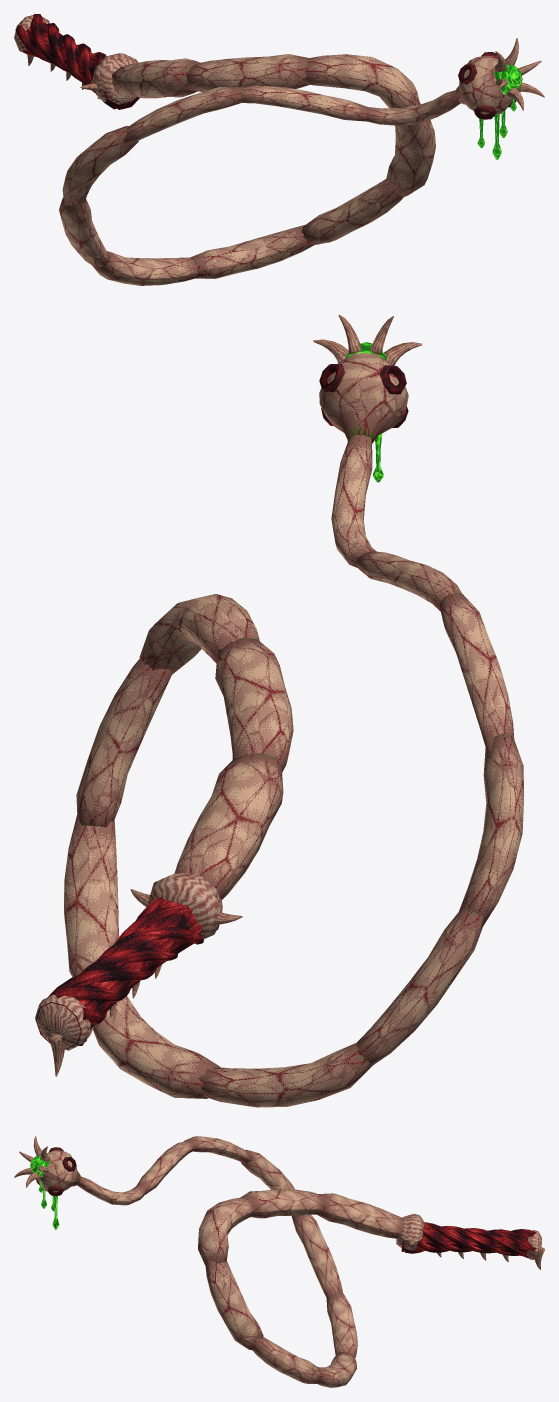
The model's file is Tenia_Whip.glb.
3 views of the same model, one above another, from view 1: azimuth 30°, elevation 25°; view 2: azimuth 150°, elevation 25°; view 3: azimuth 270°, elevation 25° (orthographic). The views are drawn at different scales.
Visible parts, largest first — view 1: Whip_Seg_03, Whip_Seg_02, Whip_Seg_06, Whip_Hilt, Whip_Seg_05, Whip_Seg_01, Whip_Seg_04, Whip_Seg_10, Whip_Seg_09, Whip_Seg_11, Whip_Seg_07, Whip_Seg_08 (+6 smaller); view 2: Whip_Seg_01, Whip_Hilt, Whip_Seg_04, Whip_Seg_02, Whip_Seg_05, Whip_Seg_09, Whip_Seg_08, Whip_Seg_07, Whip_Seg_06, Whip_Seg_03, Whip_Hilt_Cartilage, Whip_Seg_10 (+5 smaller); view 3: Whip_Hilt, Whip_Seg_04, Whip_Seg_01, Whip_Seg_03, Whip_Seg_08, Whip_Seg_02, Whip_Seg_05, Whip_Seg_07, Whip_Hilt_Cartilage, Whip_Seg_11, Whip_Scolex, Whip_Seg_09 (+6 smaller).
Boxes of the visible parts, left/top/right/bottom form: Whip_Seg_03: left=305, top=54, right=419, bottom=108; Whip_Seg_02: left=186, top=54, right=308, bottom=91; Whip_Seg_06: left=191, top=225, right=313, bottom=278; Whip_Hilt: left=15, top=14, right=139, bottom=109; Whip_Seg_05: left=301, top=179, right=403, bottom=245; Whip_Seg_01: left=112, top=58, right=200, bottom=98; Whip_Seg_04: left=386, top=102, right=435, bottom=197; Whip_Seg_10: left=123, top=87, right=242, bottom=145; Whip_Seg_09: left=62, top=126, right=138, bottom=205; Whip_Seg_11: left=239, top=85, right=367, bottom=121; Whip_Seg_07: left=92, top=251, right=199, bottom=285; Whip_Seg_08: left=59, top=197, right=111, bottom=267; Whip_Seg_01: left=174, top=753, right=283, bottom=899; Whip_Hilt: left=36, top=897, right=219, bottom=1049; Whip_Seg_04: left=76, top=658, right=172, bottom=827; Whip_Seg_02: left=215, top=637, right=293, bottom=772; Whip_Seg_05: left=64, top=813, right=119, bottom=977; Whip_Seg_09: left=459, top=734, right=523, bottom=928; Whip_Seg_08: left=356, top=907, right=483, bottom=1067; Whip_Seg_07: left=198, top=1043, right=373, bottom=1107; Whip_Seg_06: left=92, top=996, right=220, bottom=1098; Whip_Seg_03: left=139, top=594, right=259, bottom=674; Whip_Hilt_Cartilage: left=35, top=872, right=242, bottom=1076; Whip_Seg_10: left=439, top=593, right=514, bottom=751; Whip_Hilt: left=401, top=1222, right=539, bottom=1258; Whip_Seg_04: left=205, top=1258, right=263, bottom=1350; Whip_Seg_01: left=317, top=1193, right=403, bottom=1238; Whip_Seg_03: left=198, top=1197, right=255, bottom=1266; Whip_Seg_08: left=291, top=1214, right=342, bottom=1297; Whip_Seg_02: left=240, top=1189, right=324, bottom=1218; Whip_Seg_05: left=251, top=1337, right=323, bottom=1383; Whip_Seg_07: left=326, top=1291, right=357, bottom=1357; Whip_Hilt_Cartilage: left=396, top=1213, right=544, bottom=1269; Whip_Seg_11: left=136, top=1141, right=194, bottom=1194; Whip_Scolex: left=37, top=1150, right=80, bottom=1192; Whip_Seg_09: left=241, top=1150, right=300, bottom=1217.
Bounding box in the file's own units: 0.8305 × 0.8824 × 1.61.
5 materials, 5 textured.
